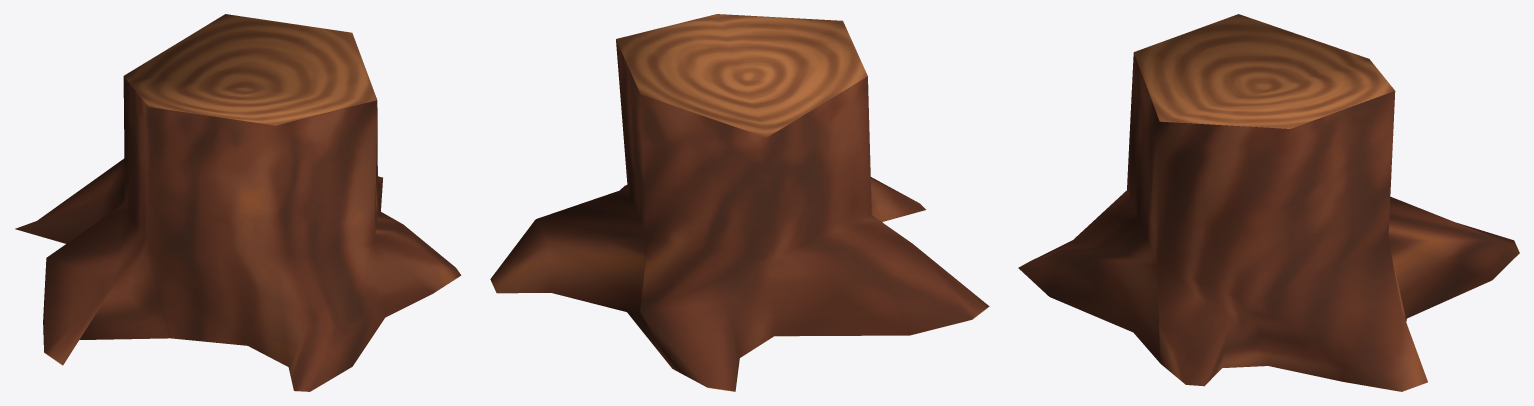
Rendered from FRM0210023.fbx.
3 views of the same model, side by side, from view 1: azimuth 30°, elevation 25°; view 2: azimuth 150°, elevation 25°; view 3: azimuth 270°, elevation 25° (orthographic). The views are drawn at different scales.
Visible parts, largest first — view 1: smFRM0210023; view 2: smFRM0210023; view 3: smFRM0210023.
Boxes of the visible parts, bbox=[...] form: smFRM0210023: bbox=[15, 14, 461, 391]; smFRM0210023: bbox=[490, 14, 989, 391]; smFRM0210023: bbox=[1018, 14, 1519, 391].
Bounding box in the file's own units: 133 × 69.67 × 138.
